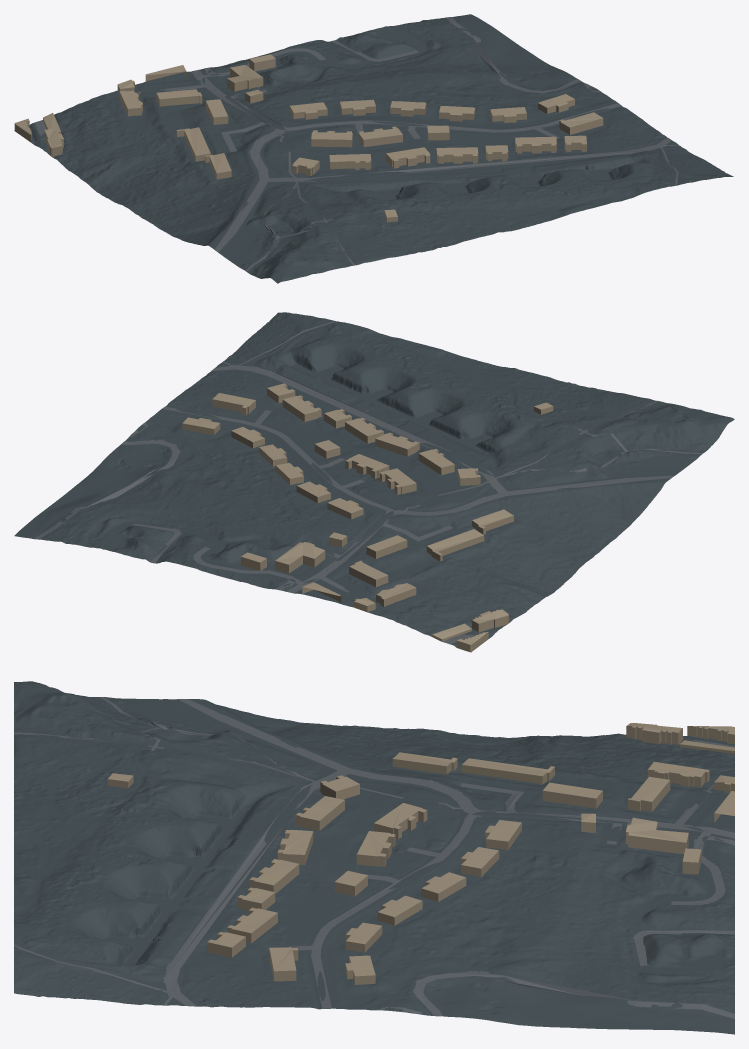
The model's file is epsg26910-1422-10893.lod0.glb.
The picture shows the model from 3 angles, top to bottom: view 1: azimuth 30°, elevation 25°; view 2: azimuth 150°, elevation 25°; view 3: azimuth 270°, elevation 25°; orthographic projection. The views are drawn at different scales.
Visible parts, largest first — view 1: epsg26910-1422-10893-lod0; view 2: epsg26910-1422-10893-lod0; view 3: epsg26910-1422-10893-lod0.
Part boxes in pixels (<box>): epsg26910-1422-10893-lod0: <box>14,14,733,283</box>; epsg26910-1422-10893-lod0: <box>14,312,734,652</box>; epsg26910-1422-10893-lod0: <box>14,681,734,1034</box>.
Size of the model in its own units: 384 by 37.13 by 384.
